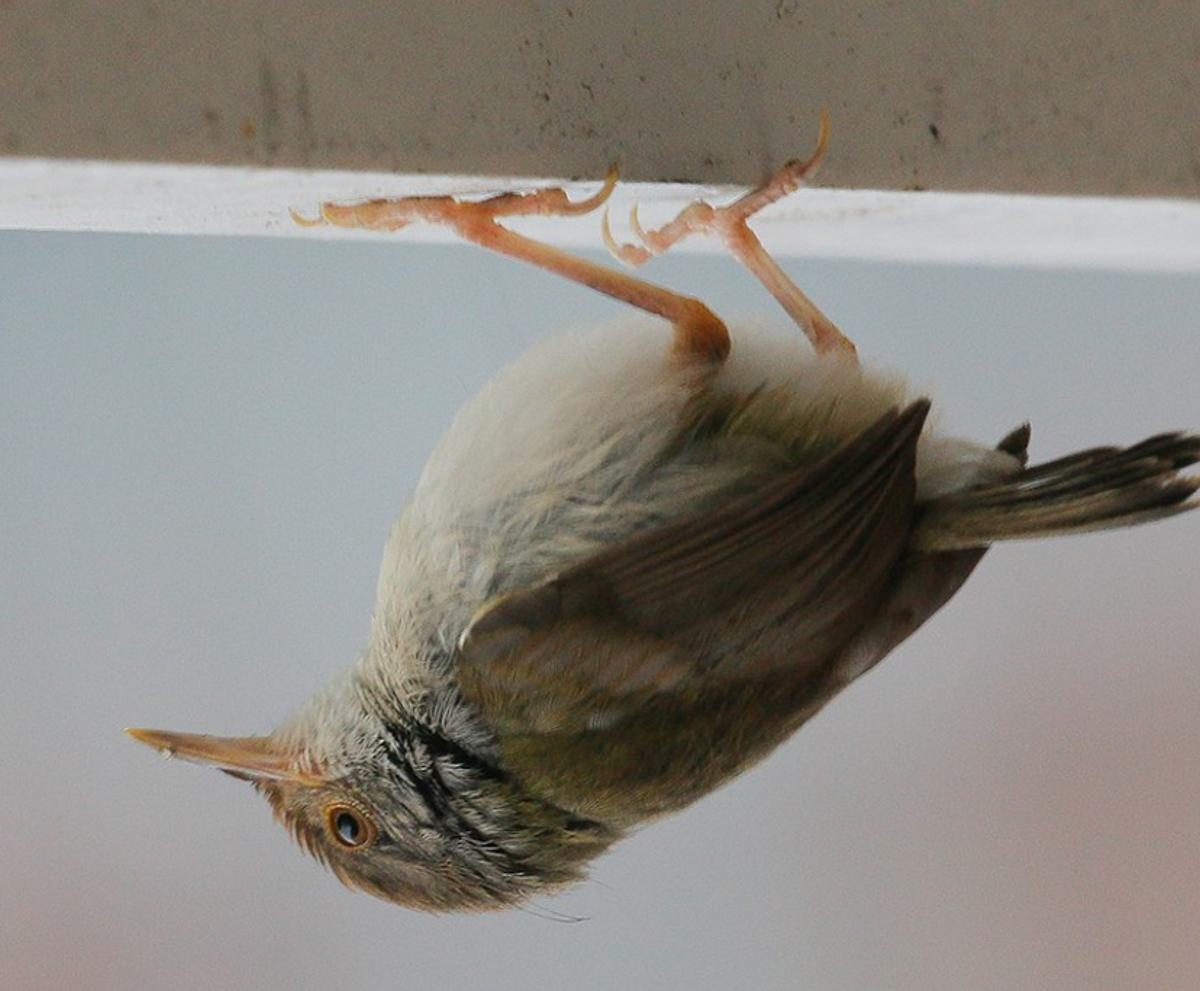tailorbird: (161, 333, 1166, 892)
